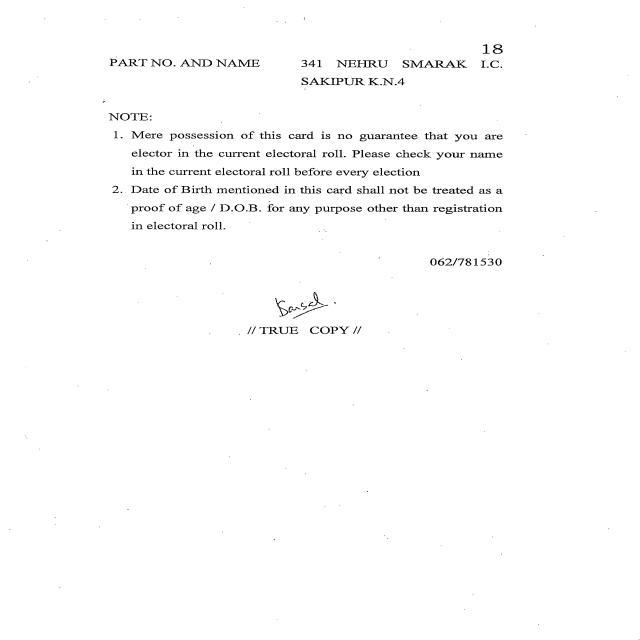page-number: (326, 0, 640, 58)
